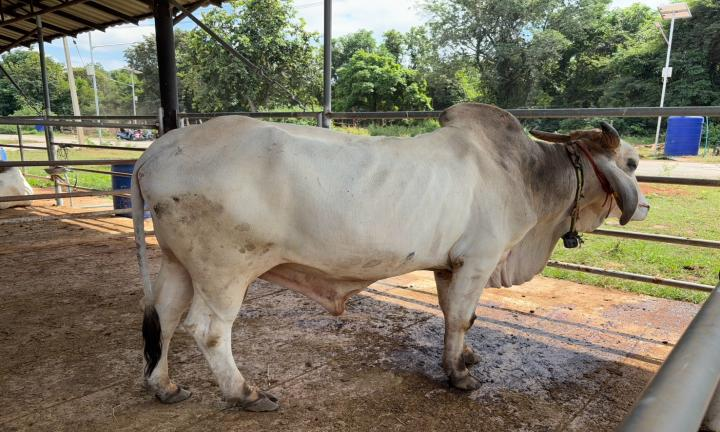Brahman: (131, 103, 648, 410)
